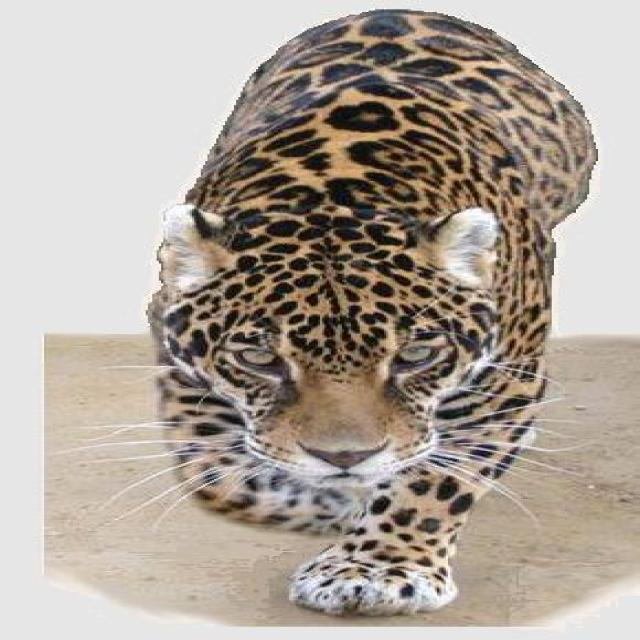Leopard: (64, 7, 594, 613)
